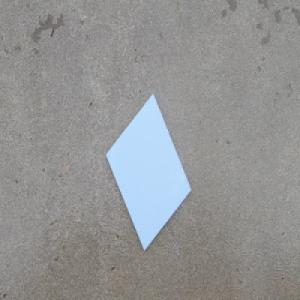PaintChip: (106, 92, 192, 252)
